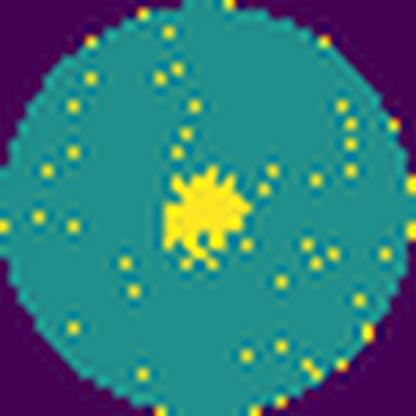Center: (166, 164, 252, 274)
